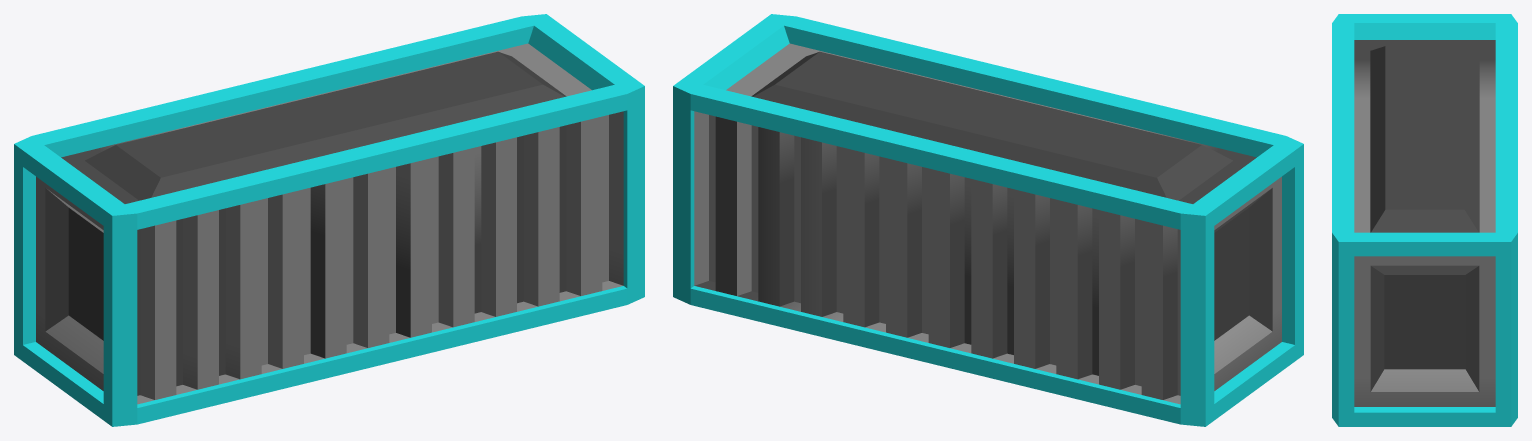
File: ContainerGreen.fbx
3 views of the same model, side by side, from view 1: azimuth 30°, elevation 25°; view 2: azimuth 150°, elevation 25°; view 3: azimuth 270°, elevation 25° (orthographic). The views are drawn at different scales.
Parts seen in each view (by area): view 1: ContainerGreen; view 2: ContainerGreen; view 3: ContainerGreen.
Boxes of the visible parts, x1,y1,x2,y2 form: ContainerGreen: (14,14,644,426); ContainerGreen: (673,14,1303,426); ContainerGreen: (1332,14,1517,426).
Bounding box in the file's own units: 4.08 × 1.55 × 1.4.
